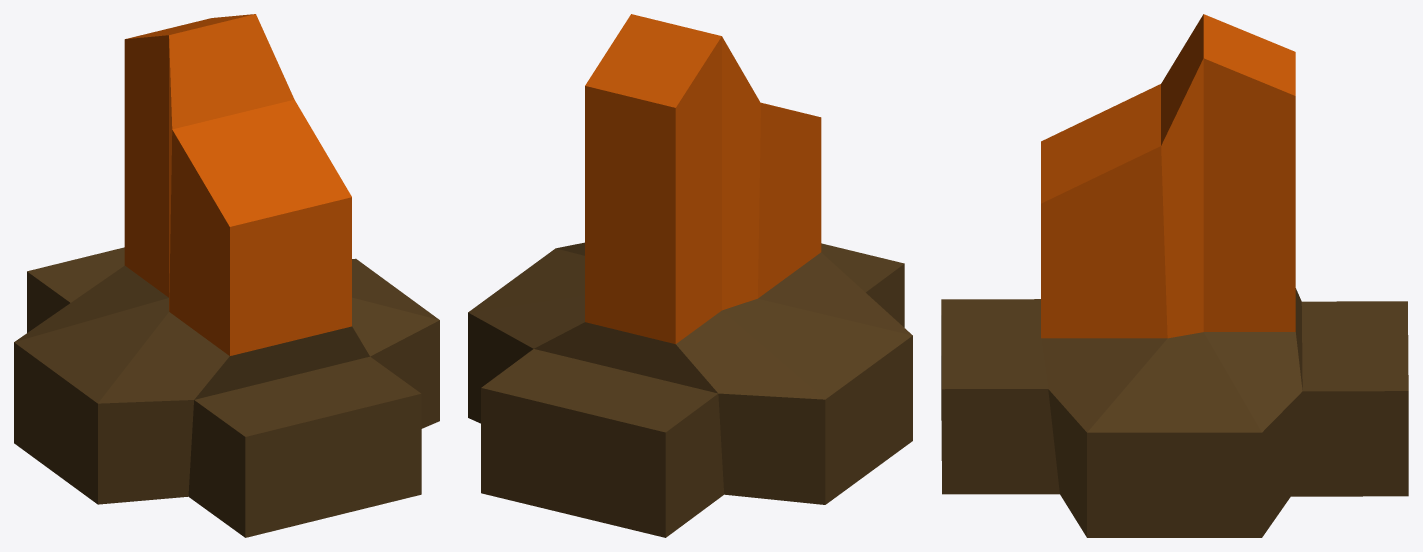
The model's file is CampFire.fbx.
3 views of the same model, side by side, from view 1: azimuth 30°, elevation 25°; view 2: azimuth 150°, elevation 25°; view 3: azimuth 270°, elevation 25° (orthographic). The views are drawn at different scales.
Visible parts, largest first — view 1: Campfire; view 2: Campfire; view 3: Campfire.
Part boxes in pixels (box(x1,y1,x2,y2)): Campfire: box(14, 14, 439, 537); Campfire: box(468, 14, 912, 537); Campfire: box(941, 14, 1408, 537).
Size of the model in its own units: 71.53 by 79.65 by 81.13.
